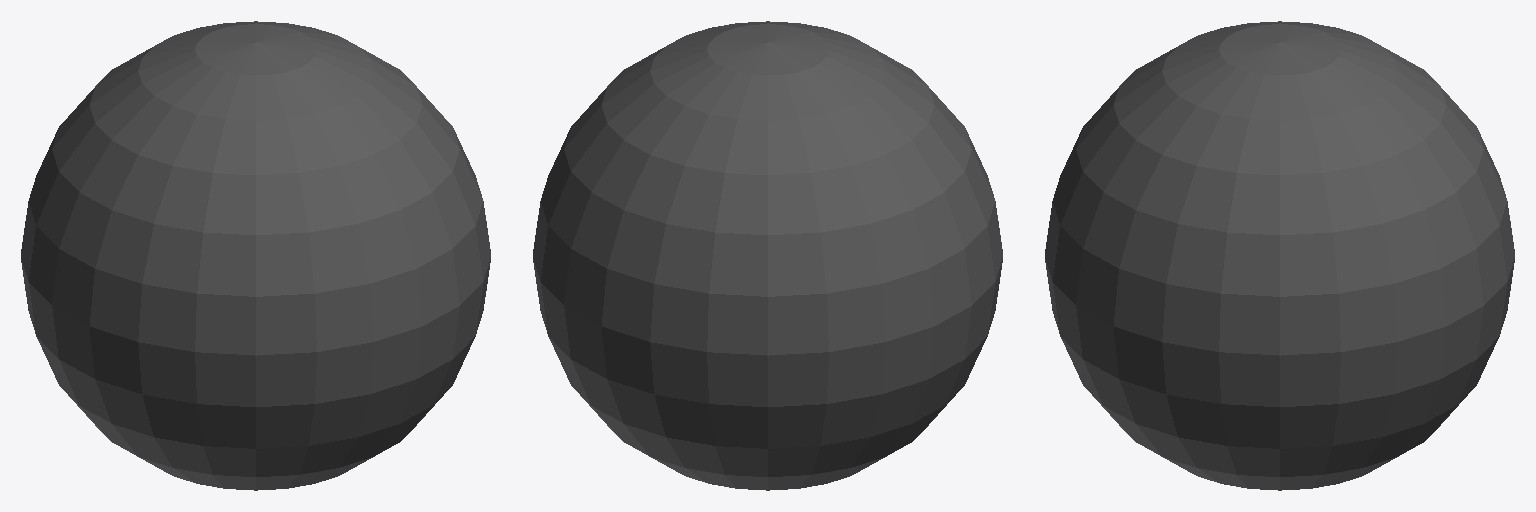
3 views of the same model, side by side, from view 1: azimuth 30°, elevation 25°; view 2: azimuth 150°, elevation 25°; view 3: azimuth 270°, elevation 25° (orthographic).
Parts seen in each view (by area): view 1: Kugel; view 2: Kugel; view 3: Kugel.
Part boxes in pixels (bbox=[...]): Kugel: bbox=[21, 21, 490, 490]; Kugel: bbox=[533, 21, 1002, 490]; Kugel: bbox=[1045, 21, 1514, 490].
Bounding box in the file's own units: 2 × 2 × 2.